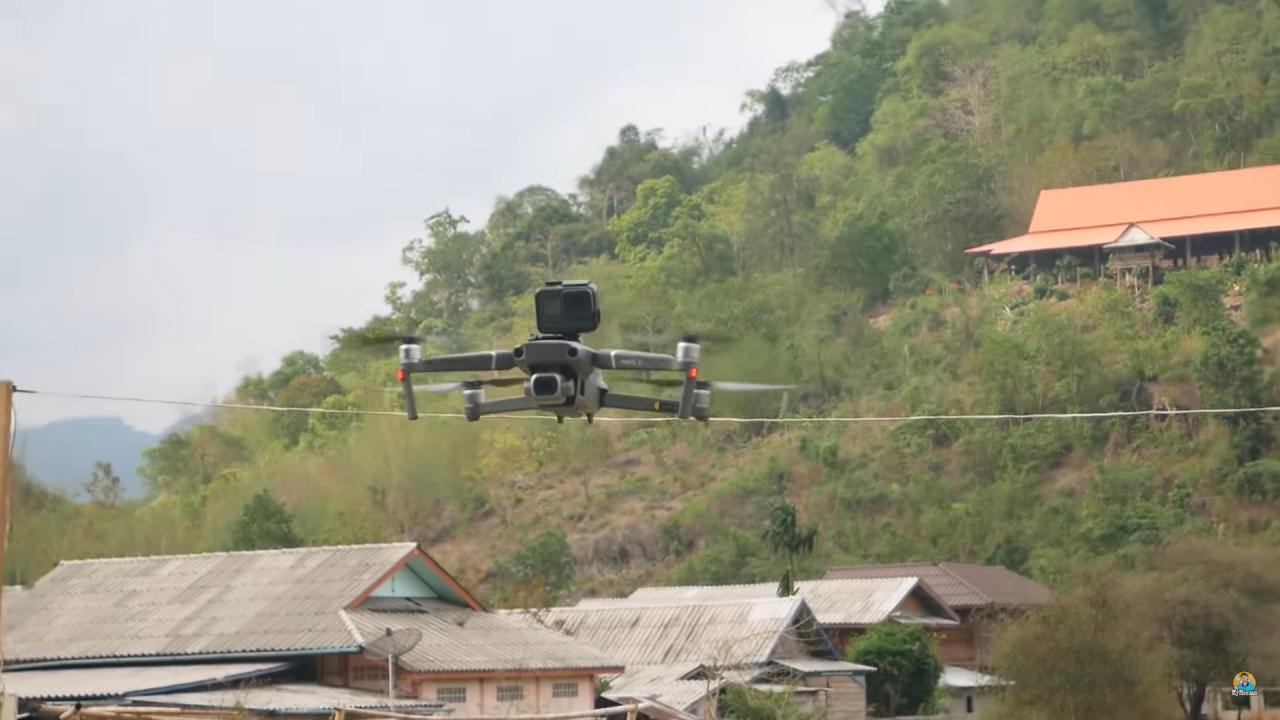Drone: (325, 267, 807, 439)
